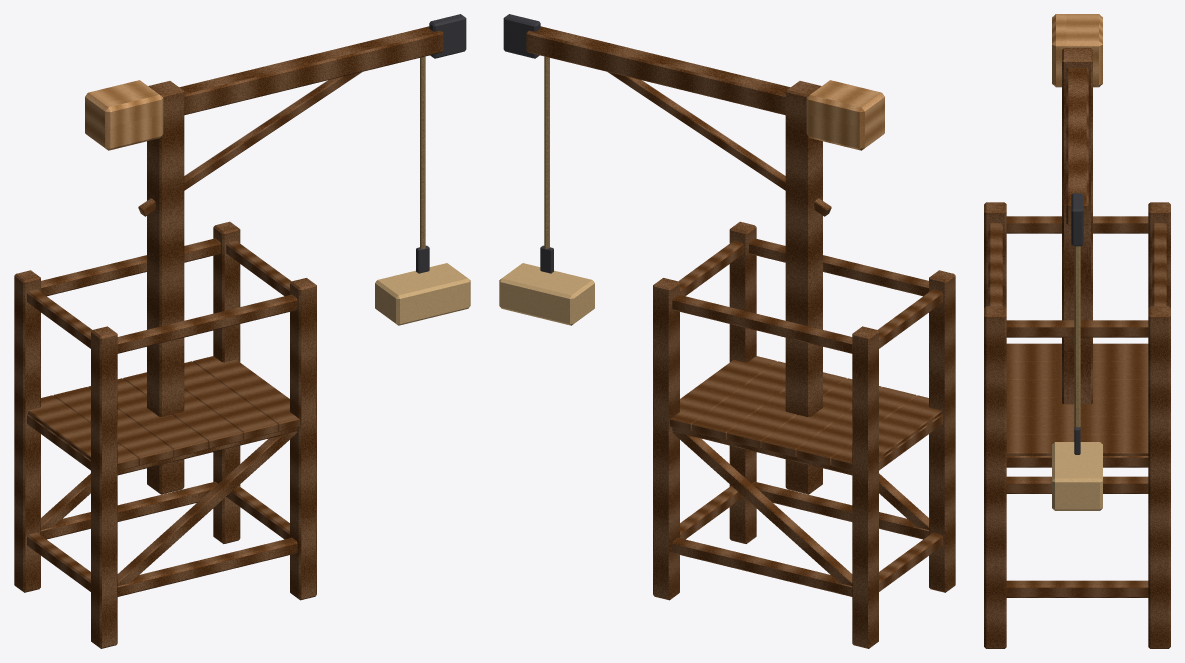
File: scaffold_crane.glb
3 views of the same model, side by side, from view 1: azimuth 30°, elevation 25°; view 2: azimuth 150°, elevation 25°; view 3: azimuth 270°, elevation 25° (orthographic). The views are drawn at different scales.
Visible parts, largest first — view 1: scaffold_crane_Timber, scaffold_crane_Sandstone, scaffold_crane_CutStone, scaffold_crane_Iron, scaffold_crane_Rope; view 2: scaffold_crane_Timber, scaffold_crane_Sandstone, scaffold_crane_CutStone, scaffold_crane_Iron, scaffold_crane_Rope; view 3: scaffold_crane_Timber, scaffold_crane_CutStone, scaffold_crane_Sandstone, scaffold_crane_Rope, scaffold_crane_Iron.
Boxes of the visible parts, box(x1,y1,x2,y2) form: scaffold_crane_Timber: box(14, 26, 443, 648); scaffold_crane_Sandstone: box(85, 80, 163, 150); scaffold_crane_CutStone: box(375, 263, 470, 325); scaffold_crane_Iron: box(416, 14, 466, 273); scaffold_crane_Rope: box(420, 56, 425, 248); scaffold_crane_Timber: box(526, 26, 955, 648); scaffold_crane_Sandstone: box(806, 80, 884, 150); scaffold_crane_CutStone: box(499, 263, 594, 325); scaffold_crane_Iron: box(503, 14, 553, 273); scaffold_crane_Rope: box(544, 56, 549, 248); scaffold_crane_Timber: box(984, 48, 1170, 648); scaffold_crane_CutStone: box(1052, 442, 1102, 510); scaffold_crane_Sandstone: box(1052, 14, 1102, 87); scaffold_crane_Rope: box(1074, 246, 1080, 427); scaffold_crane_Iron: box(1071, 193, 1083, 454).
Size of the model in its own units: 4.91 by 5.85 by 1.82.
5 materials, 5 textured.
